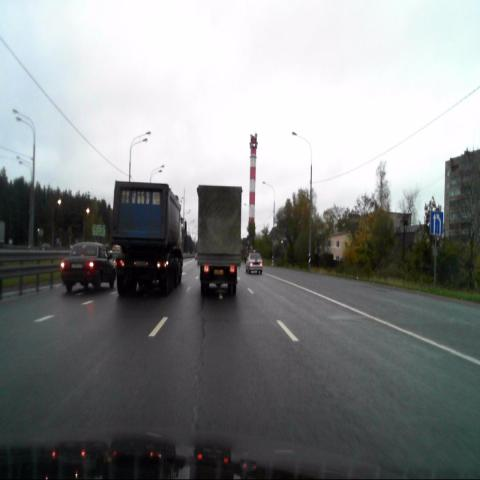5_15_5: (430, 211, 443, 234)
